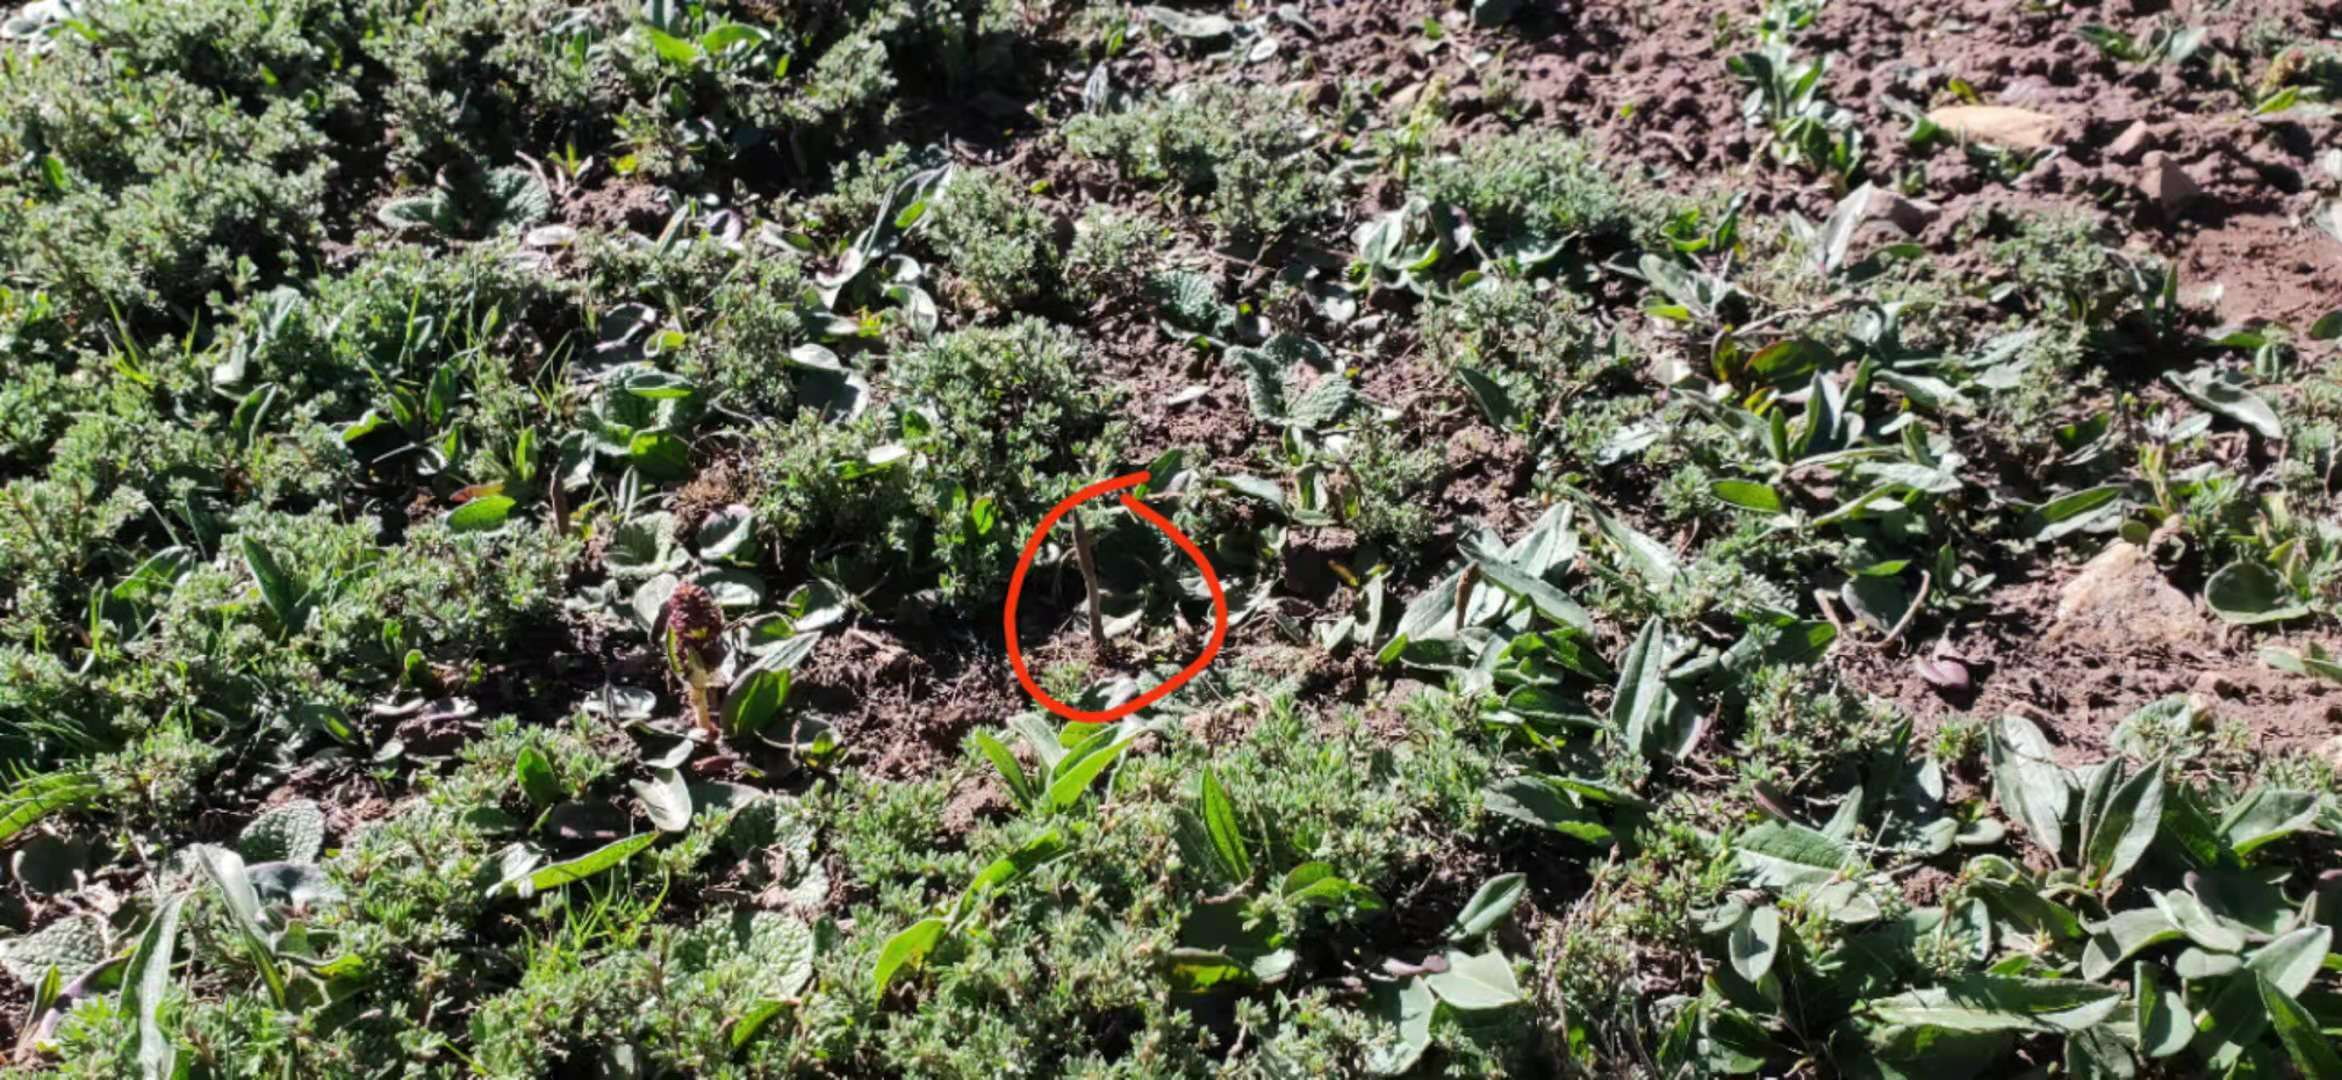Chongcao: (1068, 509, 1105, 656)
